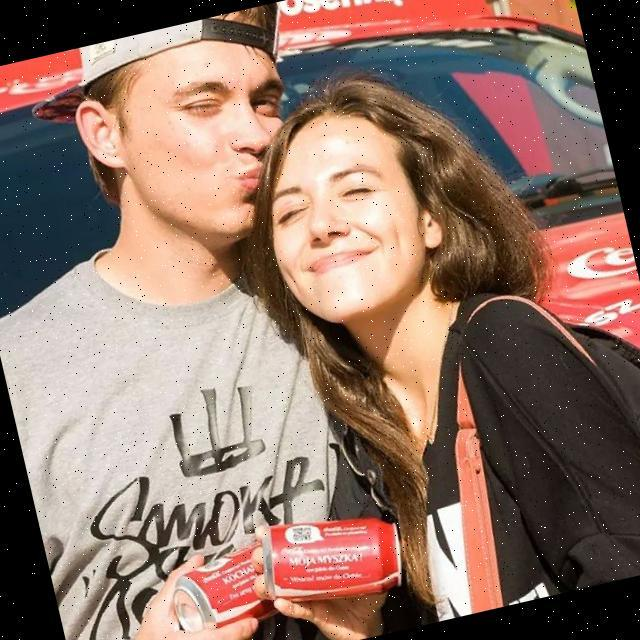coca-cola: (253, 499, 411, 618), (163, 540, 286, 637)
